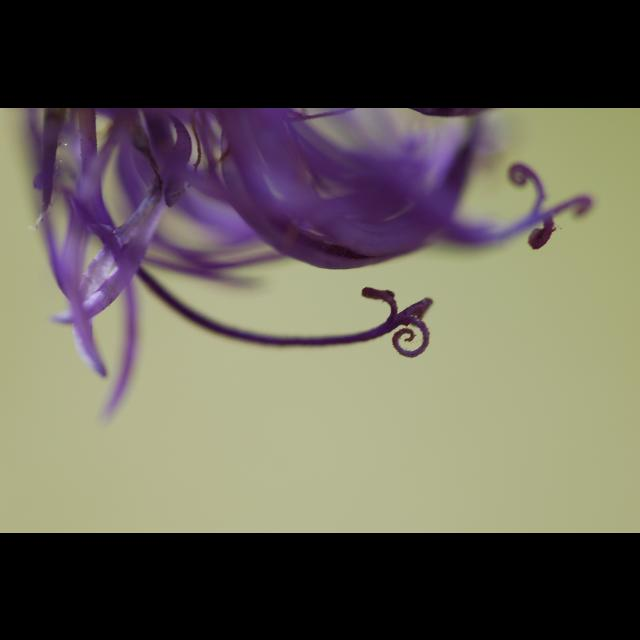Flower: (21, 107, 595, 415)
